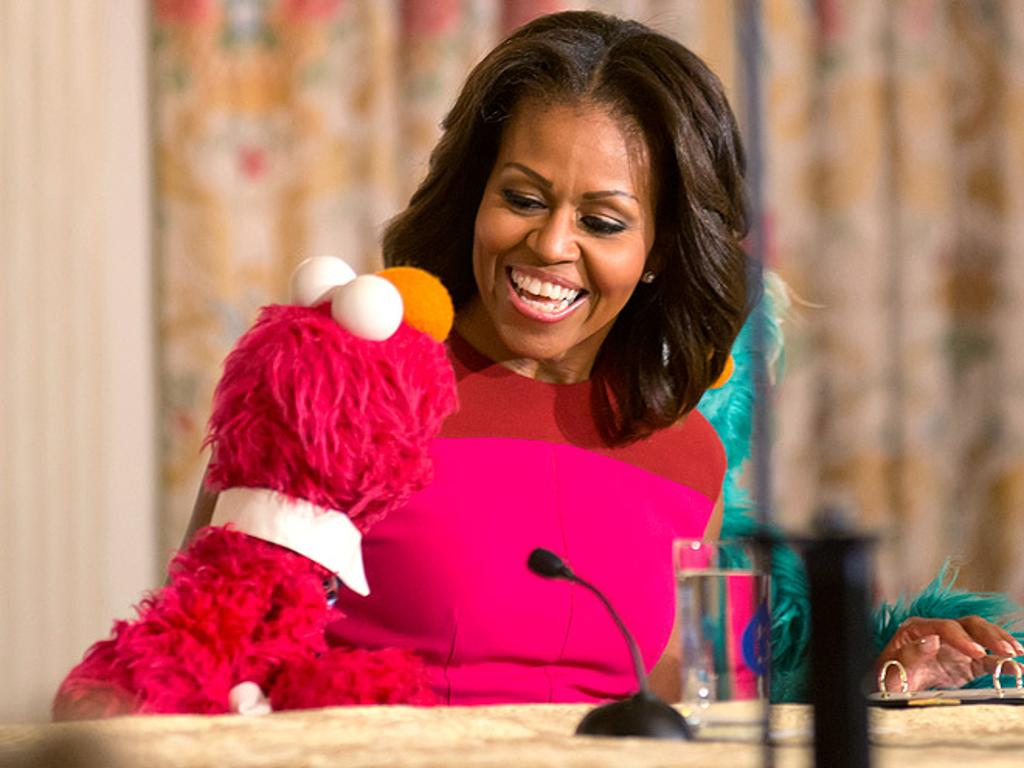face: (476, 100, 656, 360)
